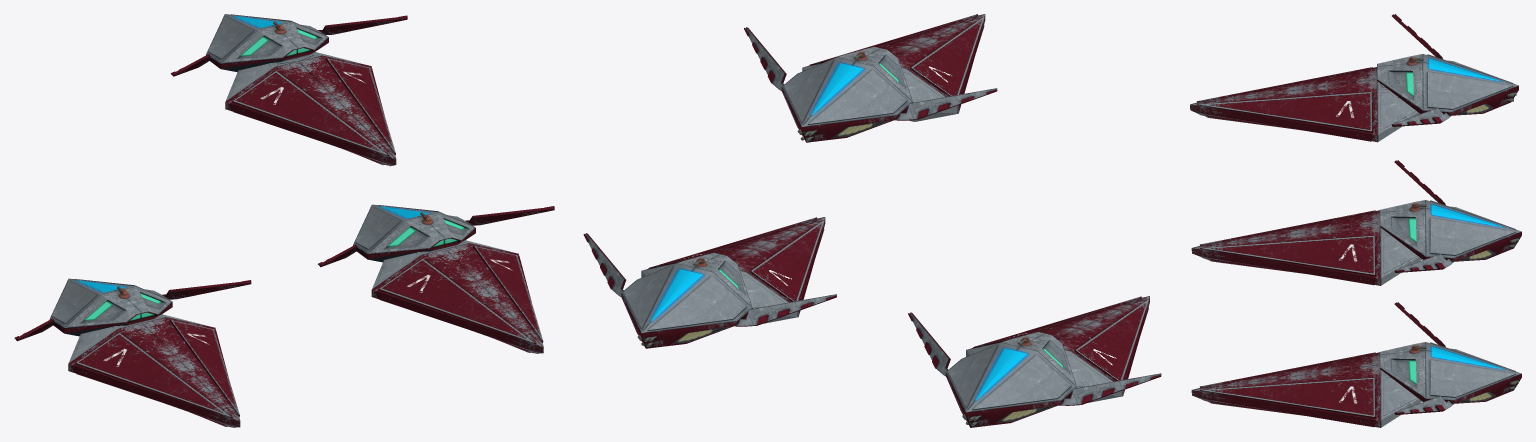
File: phantron.glb
3 renders of one model, left to right at view 1: azimuth 30°, elevation 25°; view 2: azimuth 150°, elevation 25°; view 3: azimuth 270°, elevation 25°, orthographic. The views are drawn at different scales.
Parts seen in each view (by area): view 1: phantron03, phantron02, PH1_Lshell, phantron01, PH1_Rshell; view 2: phantron02, phantron03, phantron01, PH1_Lshell, PH1_Rshell; view 3: phantron02, phantron03, PH1_Rshell, phantron01, PH1_Lshell.
Boxes of the visible parts, bbox=[...] form: phantron03: bbox=[318, 204, 554, 353]; phantron02: bbox=[14, 278, 251, 427]; PH1_Lshell: bbox=[225, 54, 395, 166]; phantron01: bbox=[170, 14, 407, 76]; PH1_Rshell: bbox=[276, 52, 396, 164]; phantron02: bbox=[908, 296, 1161, 427]; phantron03: bbox=[583, 217, 836, 348]; phantron01: bbox=[744, 27, 997, 142]; PH1_Lshell: bbox=[895, 14, 985, 121]; PH1_Rshell: bbox=[802, 14, 984, 71]; phantron02: bbox=[1191, 160, 1521, 285]; phantron03: bbox=[1191, 302, 1521, 427]; PH1_Rshell: bbox=[1190, 79, 1419, 142]; phantron01: bbox=[1377, 14, 1518, 126]; PH1_Lshell: bbox=[1190, 67, 1385, 104].
Bounding box in the file's own units: 78.58 × 41.07 × 43.58.
Materials: 2 (2 with a texture image).
